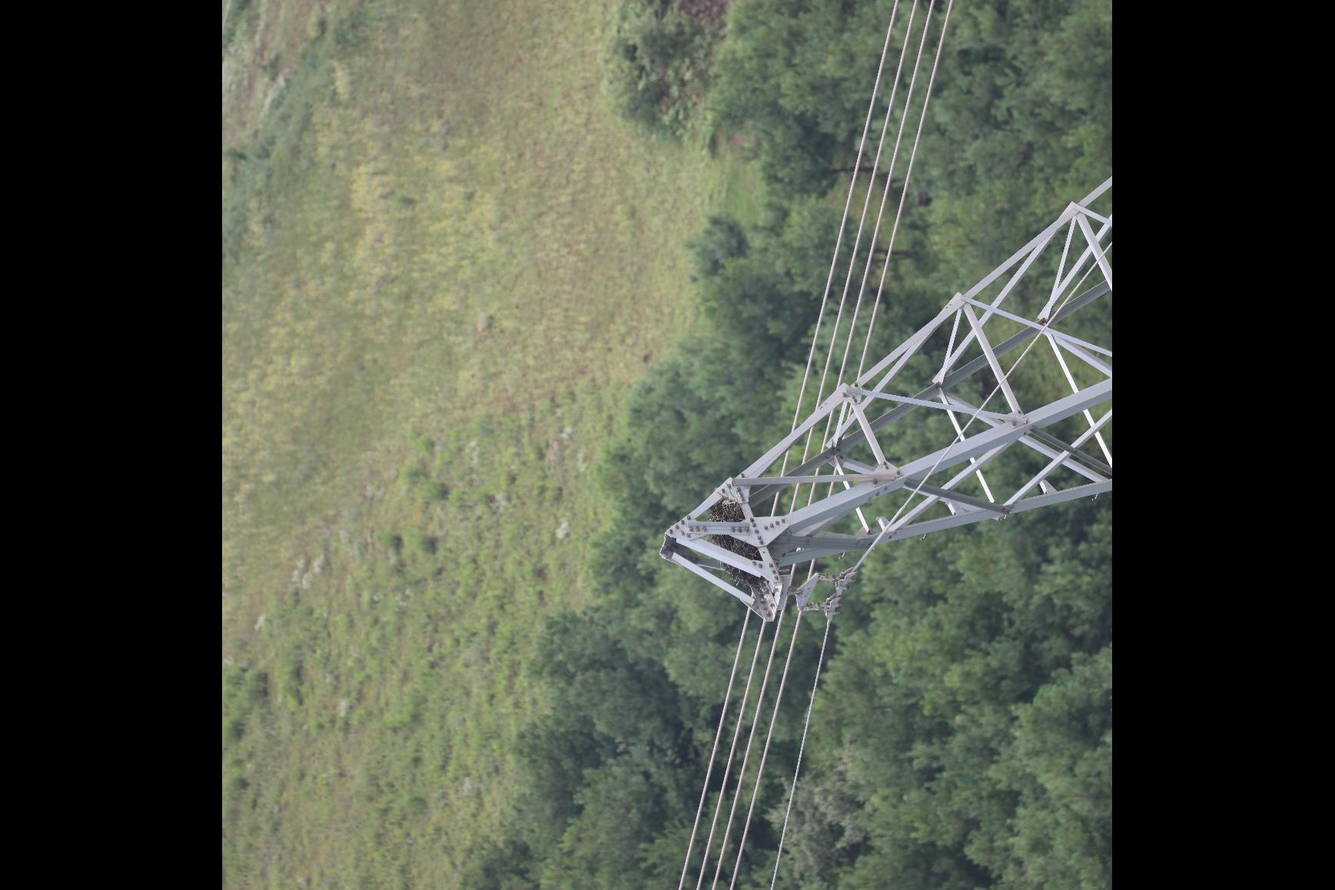nest: (706, 496, 763, 590)
